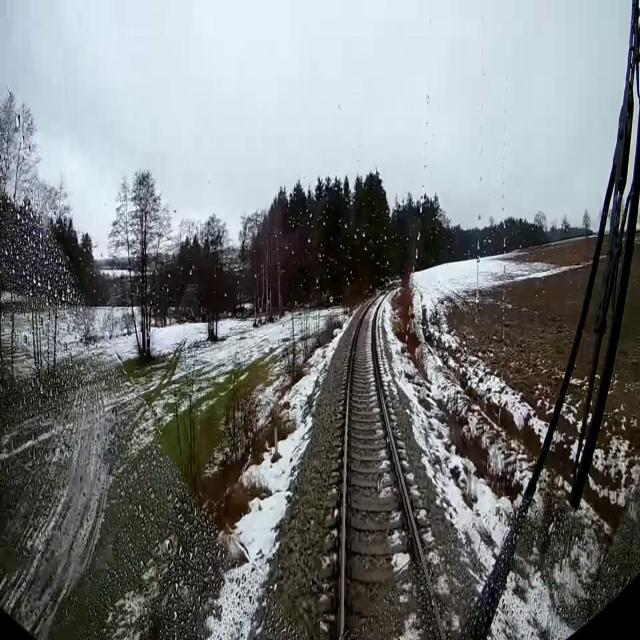rail-track: (345, 283, 442, 639)
